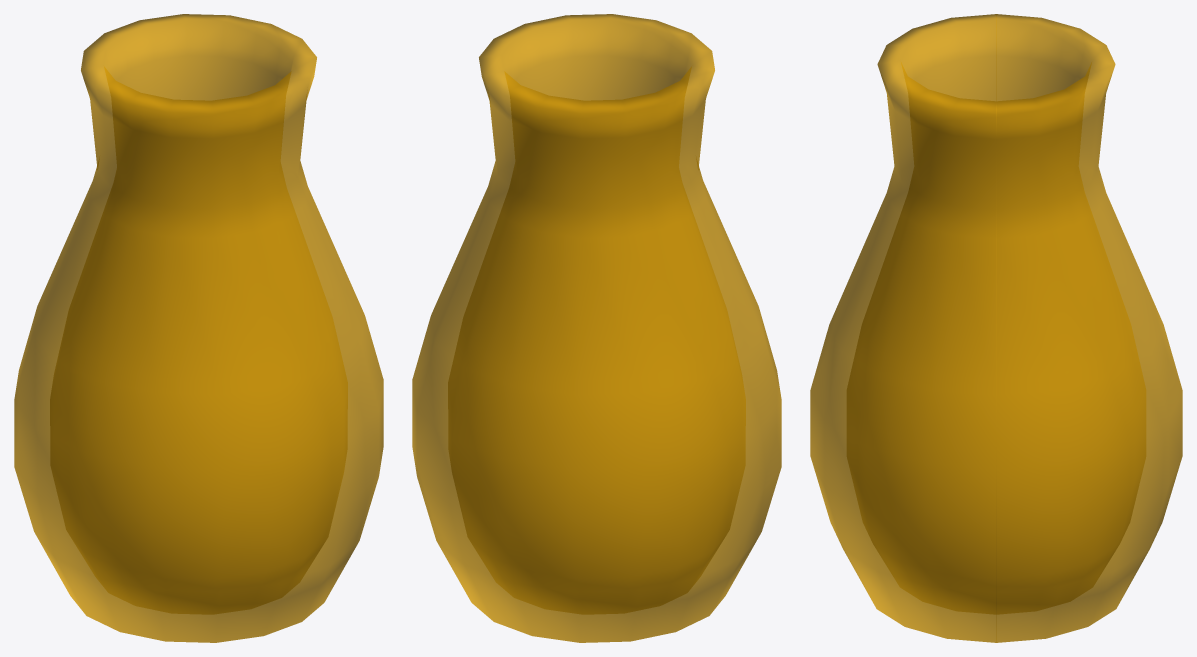
File: _flowervase_A_c02.fbx
3 renders of one model, left to right at view 1: azimuth 30°, elevation 25°; view 2: azimuth 150°, elevation 25°; view 3: azimuth 270°, elevation 25°, orthographic.
Parts seen in each view (by area): view 1: vaseA_c2; view 2: vaseA_c2; view 3: vaseA_c2.
Boxes of the visible parts, bbox=[...] form: vaseA_c2: bbox=[14, 14, 383, 642]; vaseA_c2: bbox=[412, 14, 781, 642]; vaseA_c2: bbox=[810, 14, 1182, 642].
Size of the model in its own units: 11.52 by 18 by 11.52.
